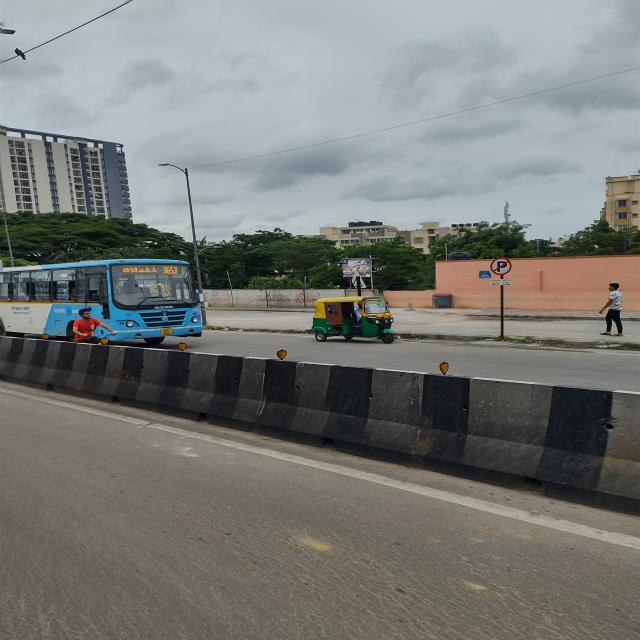bus: (0, 253, 214, 354)
display: (120, 265, 182, 276)
dnumber: (162, 266, 178, 274)
